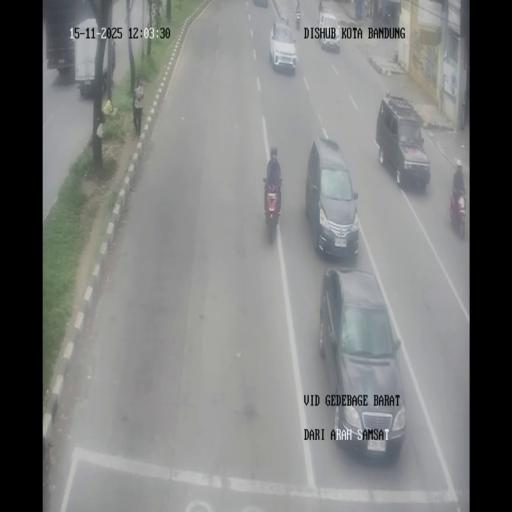car: (320, 268, 403, 455), (305, 135, 358, 259), (376, 94, 430, 190), (269, 20, 297, 74), (319, 12, 341, 52)
motorcycle: (262, 174, 282, 243), (449, 181, 467, 239), (362, 0, 370, 18), (384, 10, 392, 26), (318, 0, 324, 20), (377, 5, 384, 22), (295, 10, 301, 29)
truck: (74, 18, 112, 96), (45, 2, 78, 78)
